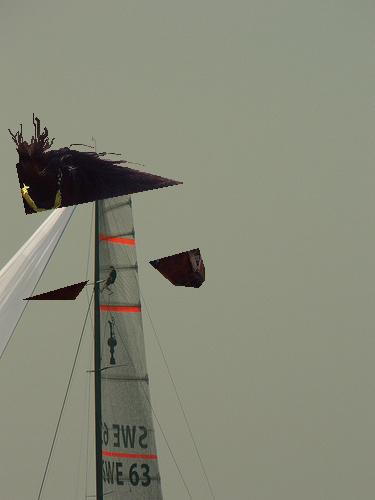tampered: (9, 114, 205, 300)
